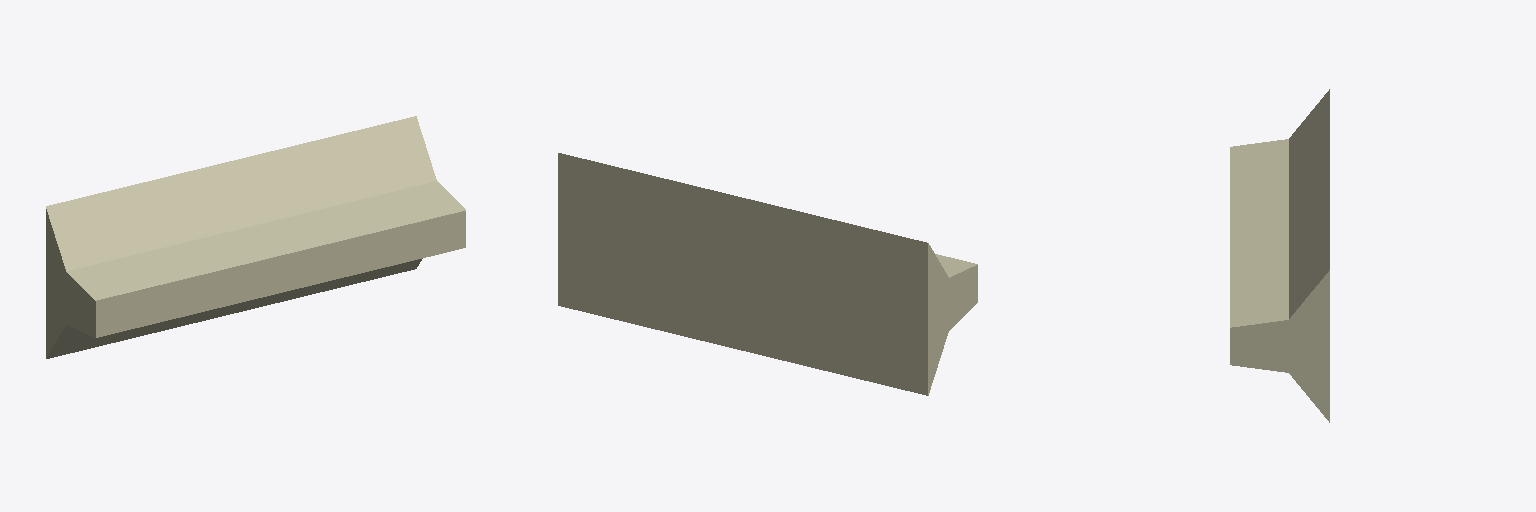
File: toggleBtn.obj
3 views of the same model, side by side, from view 1: azimuth 30°, elevation 25°; view 2: azimuth 150°, elevation 25°; view 3: azimuth 270°, elevation 25° (orthographic).
Visible parts, largest first — view 1: switchBtn; view 2: switchBtn; view 3: switchBtn.
Boxes of the visible parts, <box> form: switchBtn: <box>46,116,465,358</box>; switchBtn: <box>558,153,977,395</box>; switchBtn: <box>1230,89,1329,422</box>.
Bounding box in the file's own units: 2.23 × 0.8812 × 0.5206.